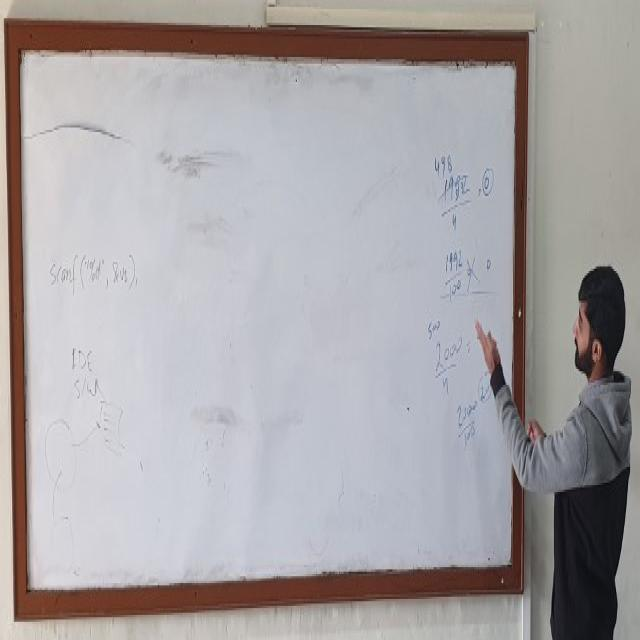Instructor: (539, 262, 632, 640)
White-board: (11, 30, 521, 604)
